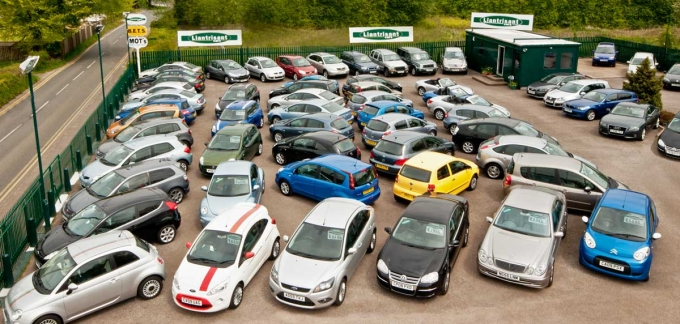Car: (3, 231, 165, 324), (172, 203, 281, 313), (269, 198, 377, 309), (34, 188, 182, 266), (376, 195, 469, 298), (477, 185, 567, 289), (62, 158, 190, 221), (579, 189, 661, 281), (502, 153, 628, 212), (80, 135, 192, 187), (476, 135, 599, 179), (275, 155, 381, 205), (393, 151, 479, 202), (199, 161, 265, 226), (452, 118, 560, 154), (96, 117, 193, 157), (369, 131, 455, 176), (199, 124, 263, 176), (272, 131, 361, 165), (105, 104, 187, 139), (362, 114, 437, 149), (269, 113, 355, 142), (562, 89, 638, 121), (598, 102, 659, 140), (266, 99, 355, 125), (426, 95, 510, 120), (357, 101, 424, 132), (443, 104, 510, 134), (114, 98, 196, 122), (543, 79, 610, 108), (212, 100, 264, 136), (121, 89, 206, 111), (346, 91, 415, 116), (268, 88, 346, 110), (526, 73, 592, 99), (214, 83, 260, 118), (127, 81, 197, 102), (342, 75, 403, 98), (136, 66, 205, 86), (131, 75, 205, 93), (347, 81, 403, 104), (269, 80, 340, 98), (397, 47, 438, 75), (415, 77, 475, 96), (205, 59, 250, 84), (307, 52, 349, 78), (657, 112, 680, 159), (244, 56, 285, 82), (276, 54, 317, 80), (370, 49, 409, 76), (140, 61, 203, 77), (341, 51, 380, 75), (282, 75, 340, 91), (422, 86, 469, 103), (627, 52, 658, 76), (441, 47, 468, 74), (592, 41, 617, 66), (662, 64, 680, 89)
